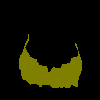reggiseno: (19, 32, 82, 88)
